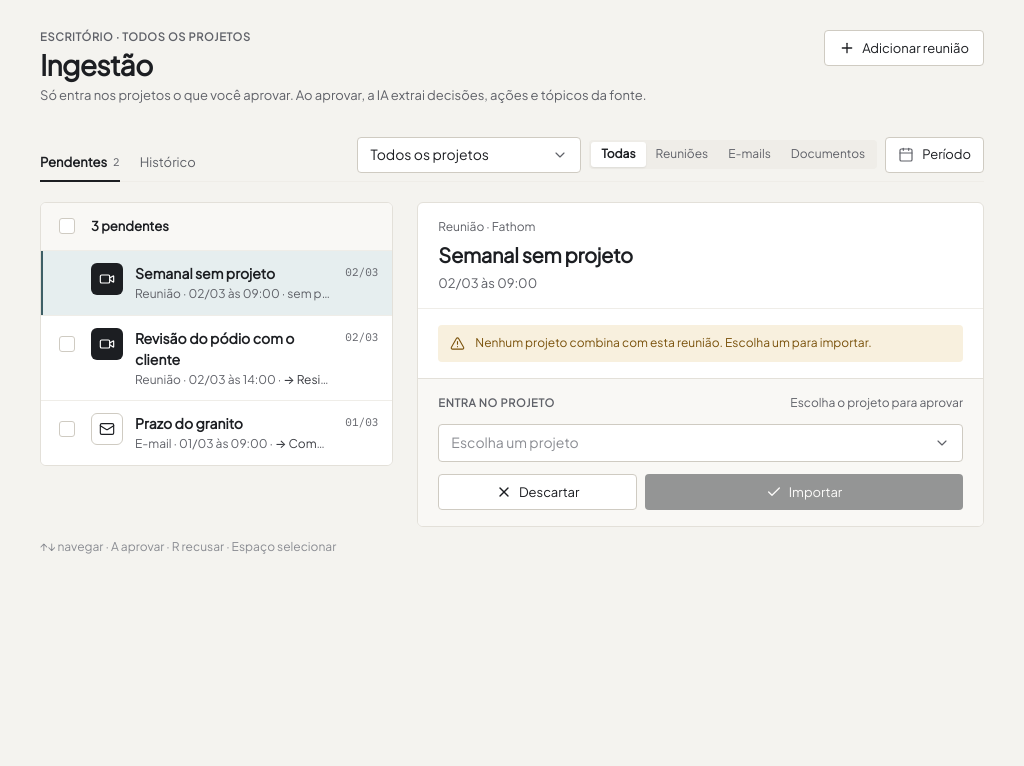
Scenario: Phase 3d · Ingestão › shows what is being approved: summary, candidates, excerpt, reasons and flags
Click the option "Revisão do pódio com o cliente": (107, 344) [41,316,392,401]
(page scrolled)
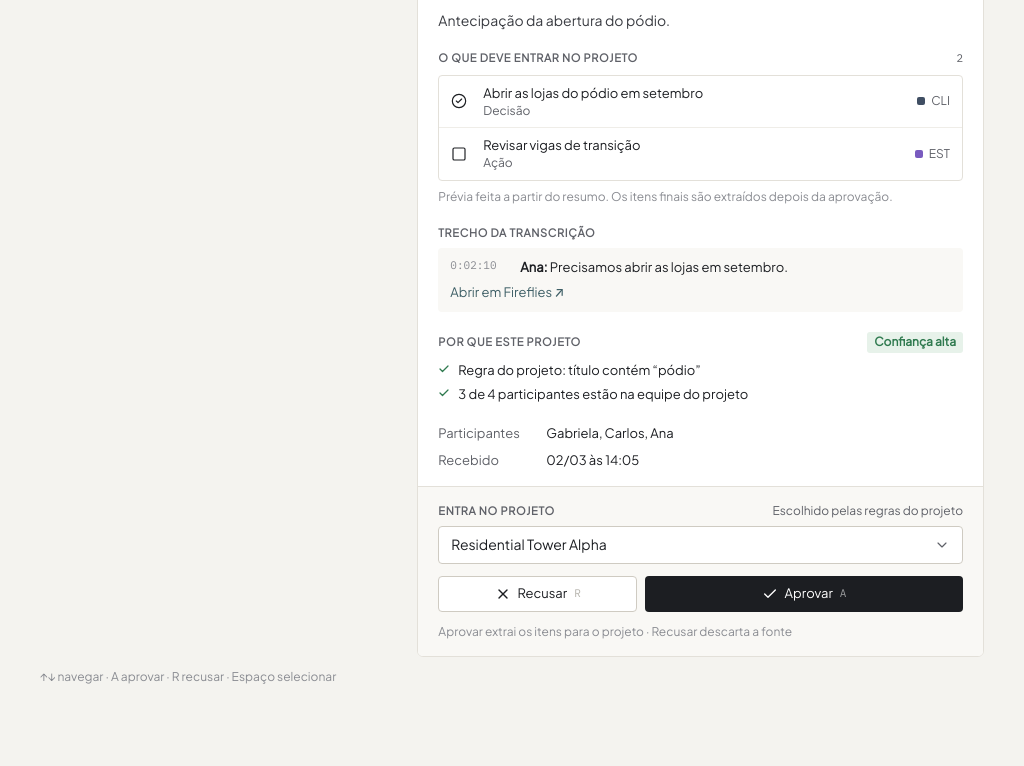
expect the text "Antecipação da abertura do pódio." is shown: met, box [438,11,670,29]
expect the text "Abrir as lojas do pódio em setembro" is shown: met, box [483,85,703,101]
expect the text "Prévia feita a partir do resumo. Os itens finais são extraídos depois da aprovação." is shown: met, box [438,189,893,204]
